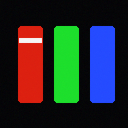3 line_h: (19, 38, 41, 42)
